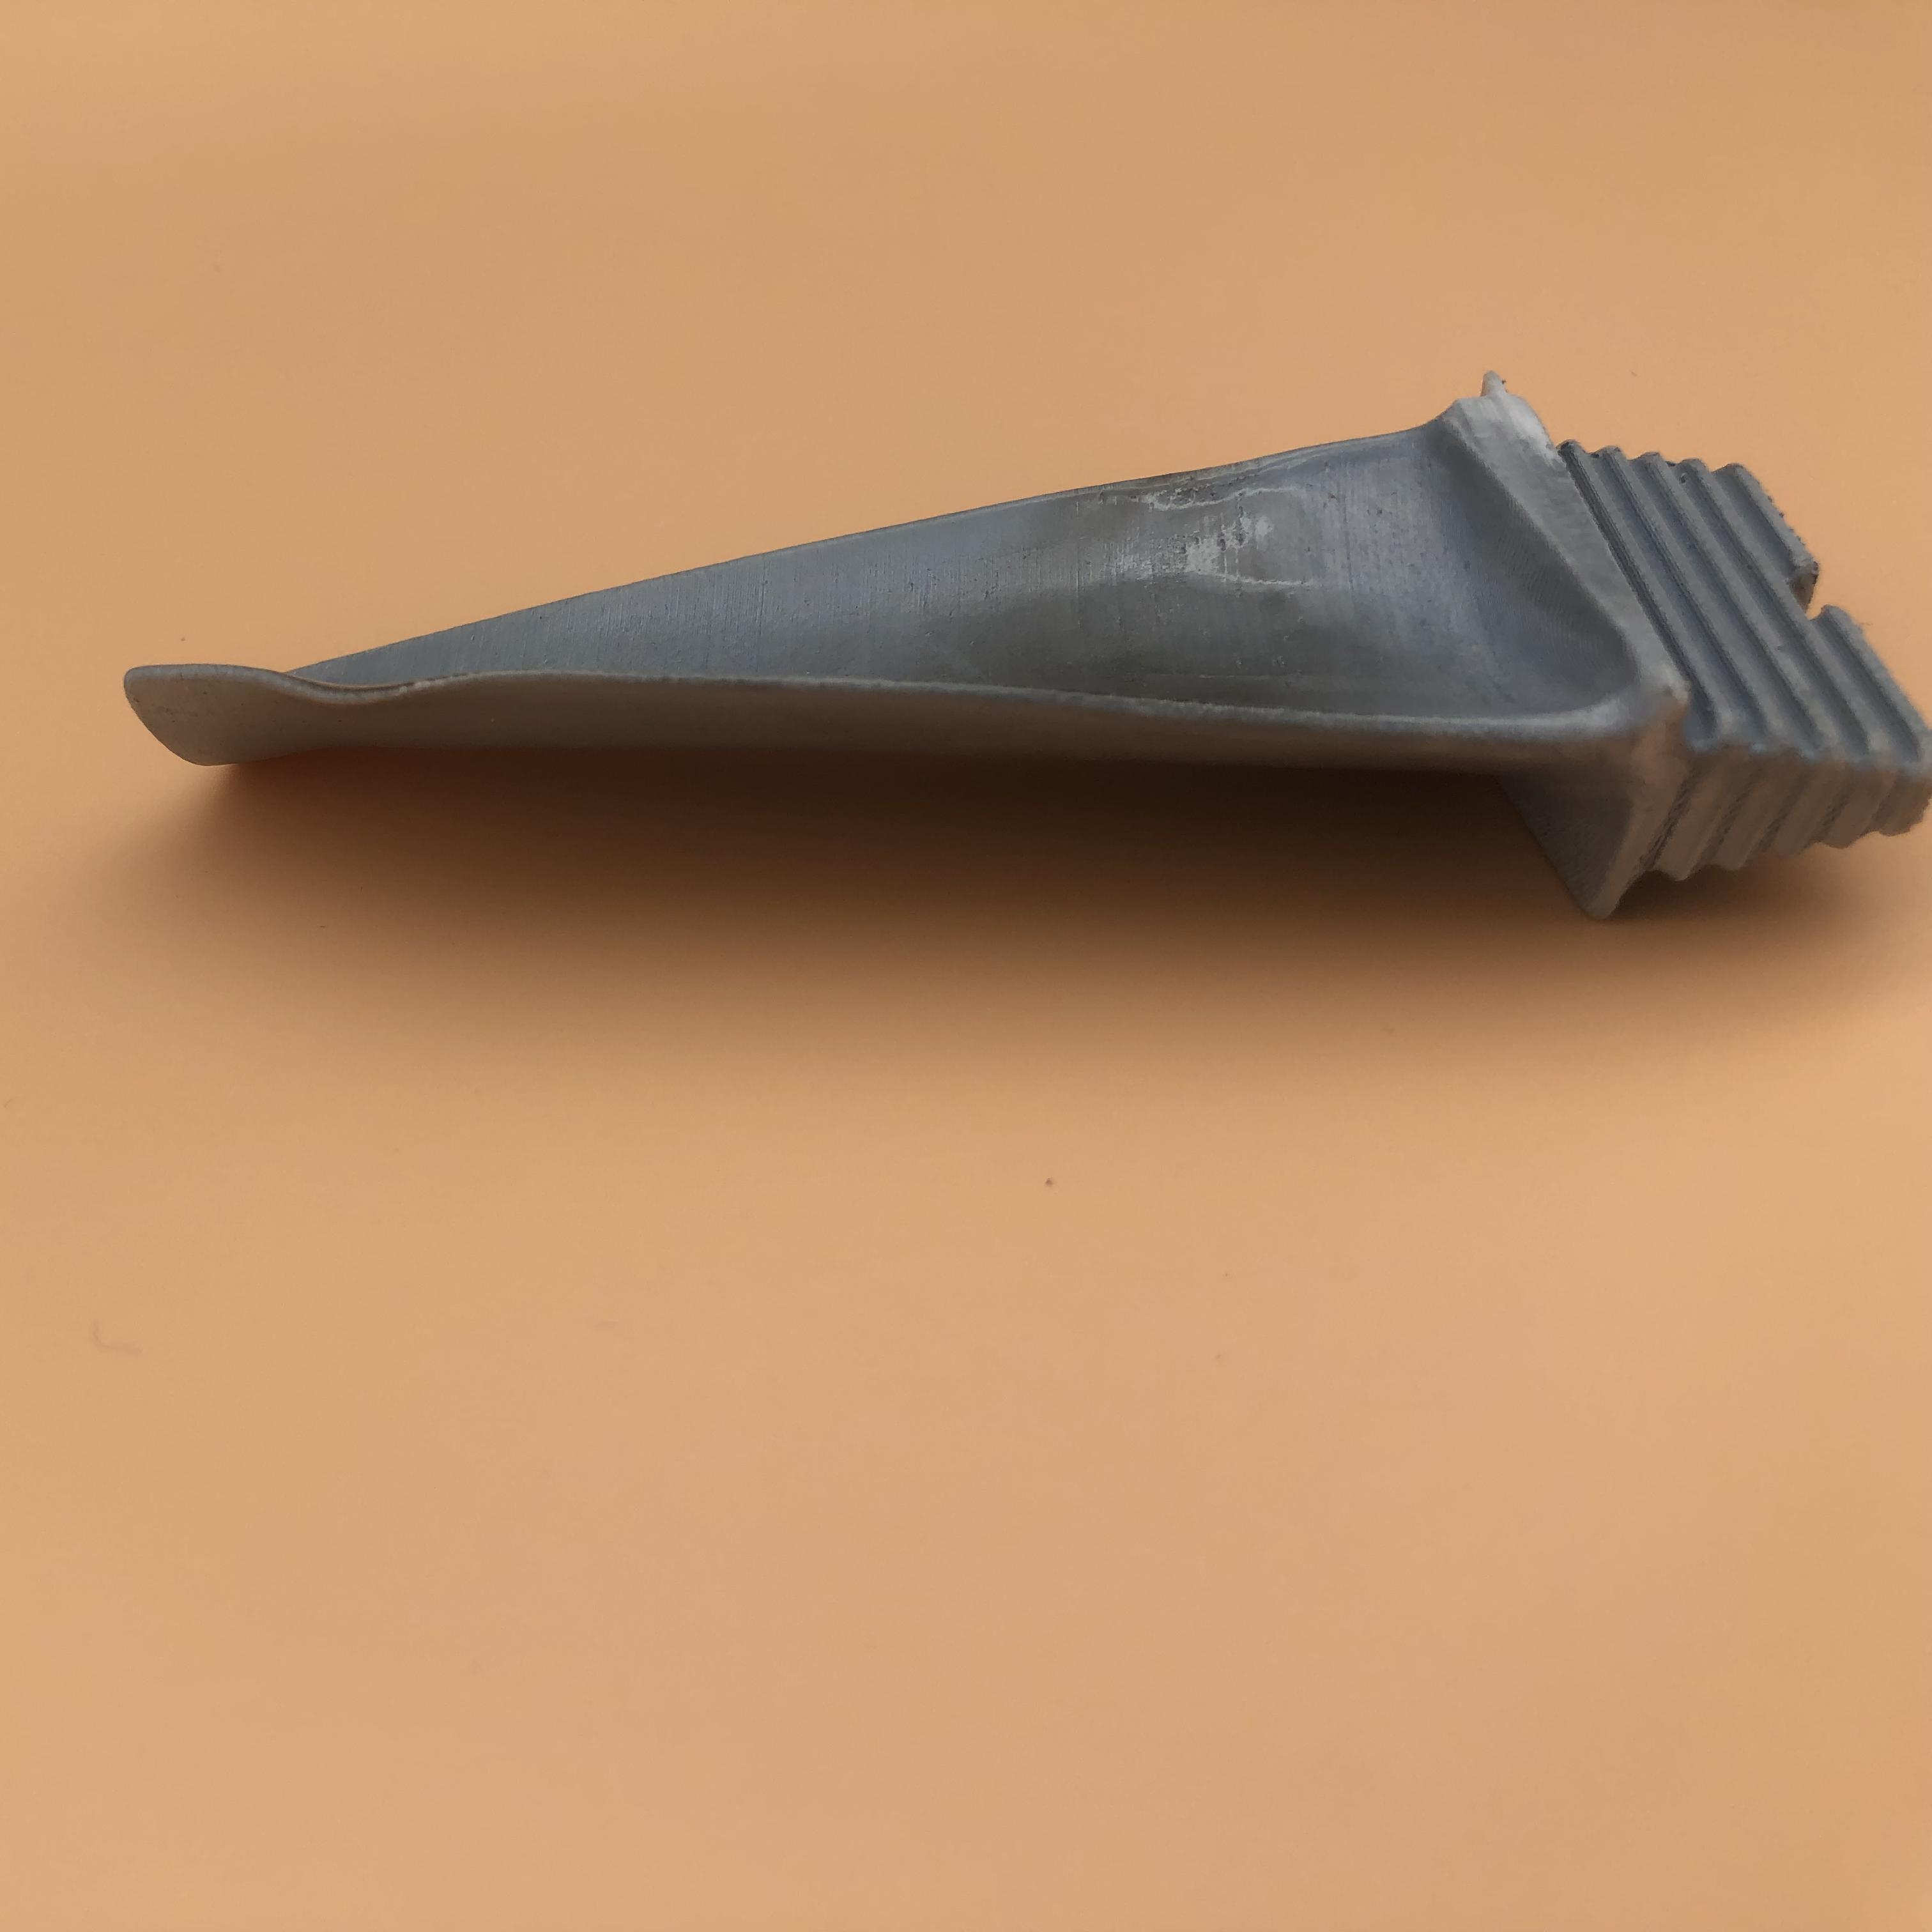ablation: (1044, 495, 1391, 720)
